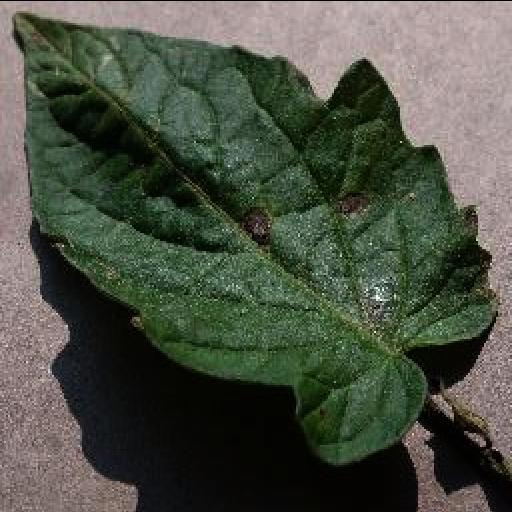disease_tomato: (8, 10, 492, 470)
